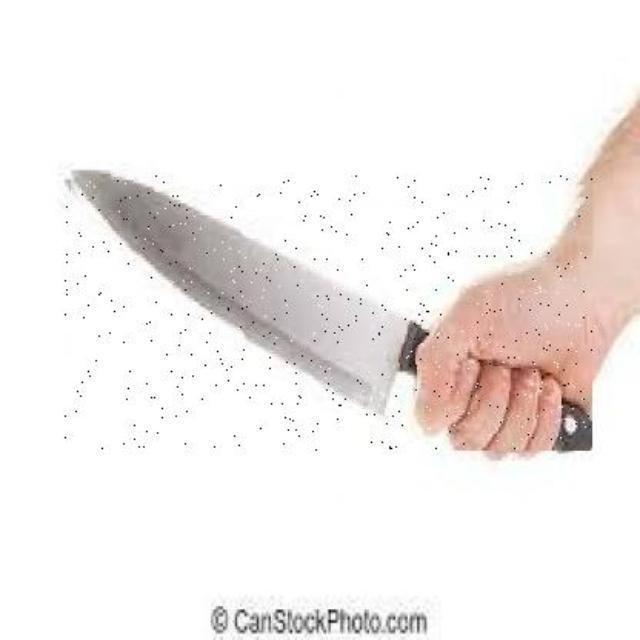Knife: (64, 174, 592, 450)
